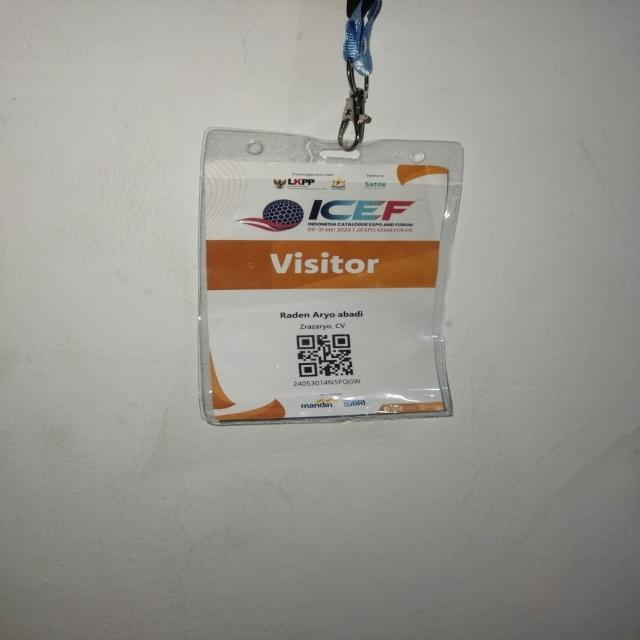ID_card: (196, 130, 464, 426)
